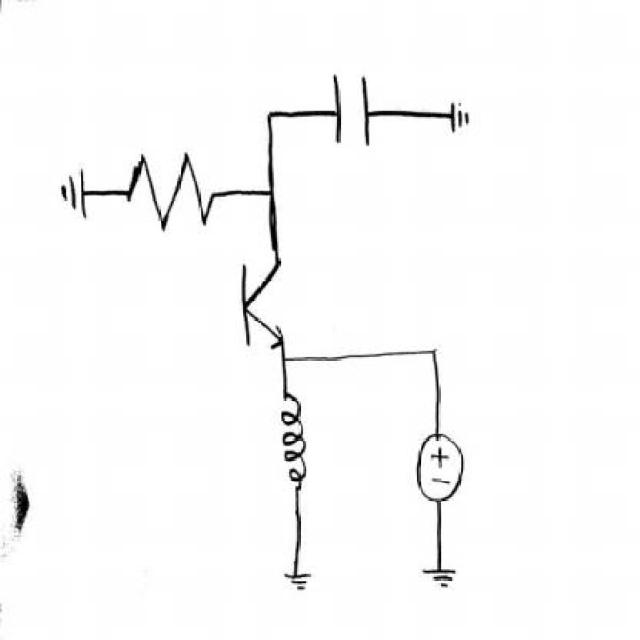capacitor: (322, 58, 383, 155)
ground: (49, 157, 102, 225), (414, 554, 473, 614), (271, 557, 332, 608), (432, 93, 486, 140)
inductor: (264, 388, 318, 493)
resistor: (120, 144, 223, 234)
transistor: (233, 251, 300, 359)
voltage_source: (409, 425, 476, 508)
